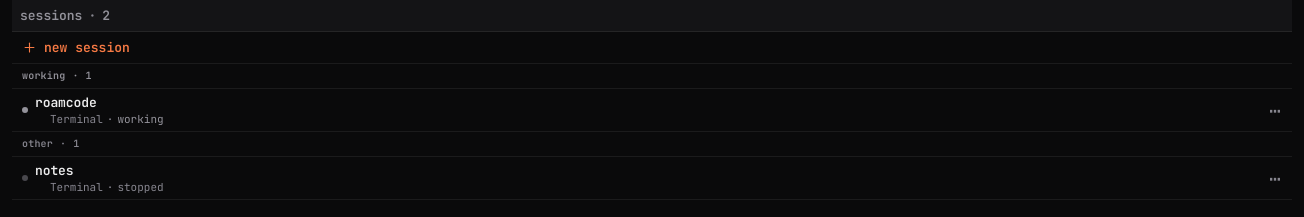
Test: SessionList › hides row actions behind a ⋯ that reveals a labelled close per row
Step 1. Click the button named "Actions for roamcode" → (1275, 110), box [1259,94,1291,126]
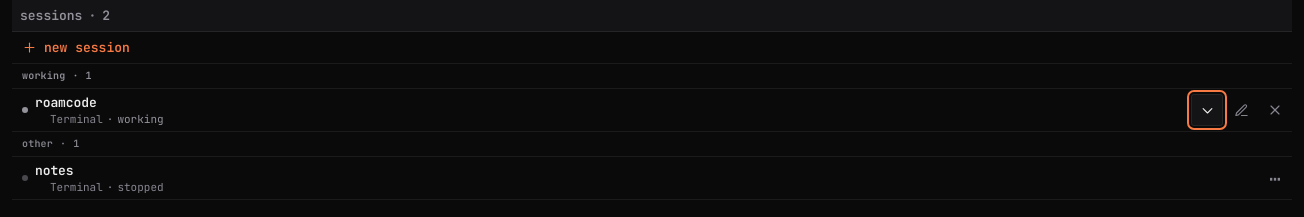
Check: the button named "Close session roamcode" is shown, box [1259,94,1291,126]
